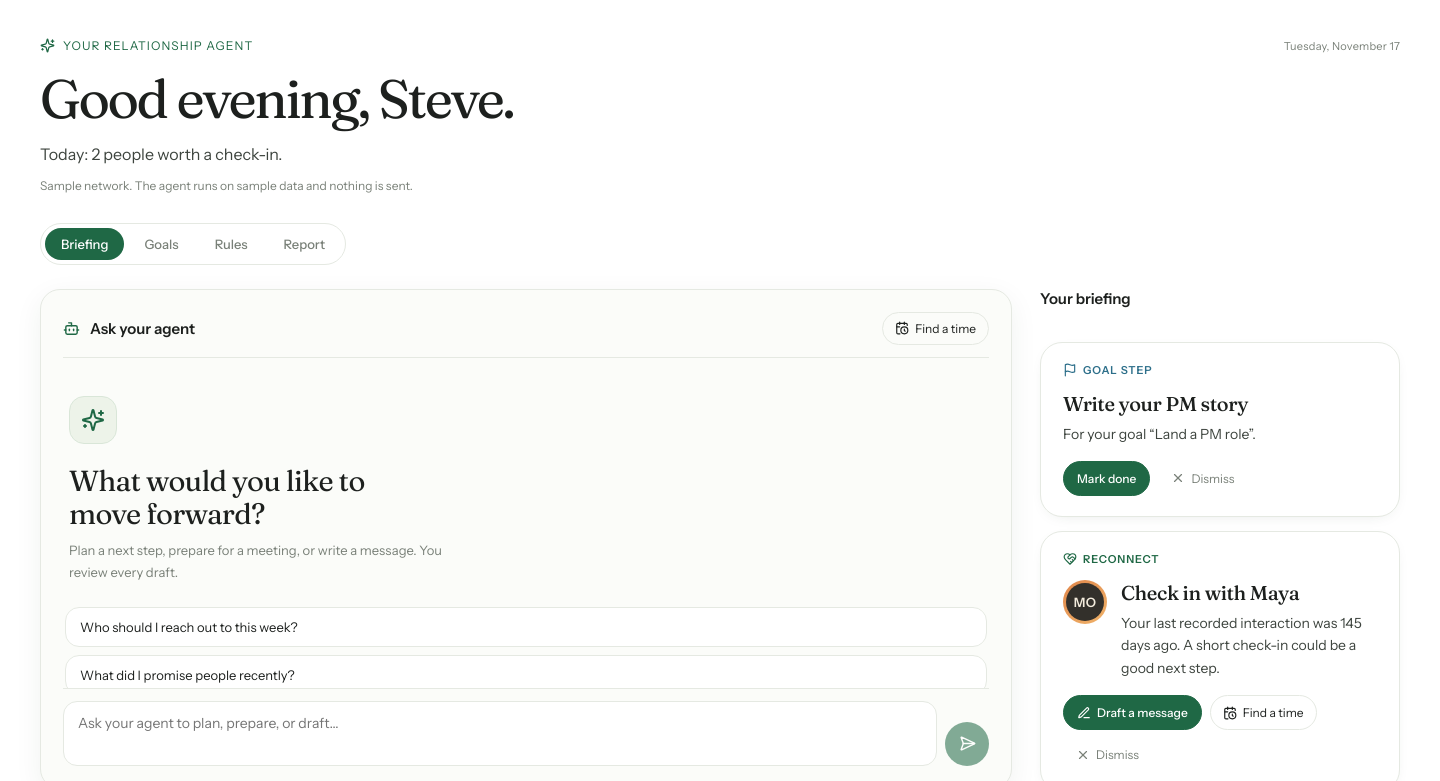
it: agent home › puts this week's goal steps in the feed and marks them done
expect the element "Write your PM story" shows "Goal step": met, box [1083,363,1153,377]
What coordinates should you click on to do the following:
click the button "Mark done"
I would click on:
 (1107, 478)
Its box is [1063,461,1150,496].
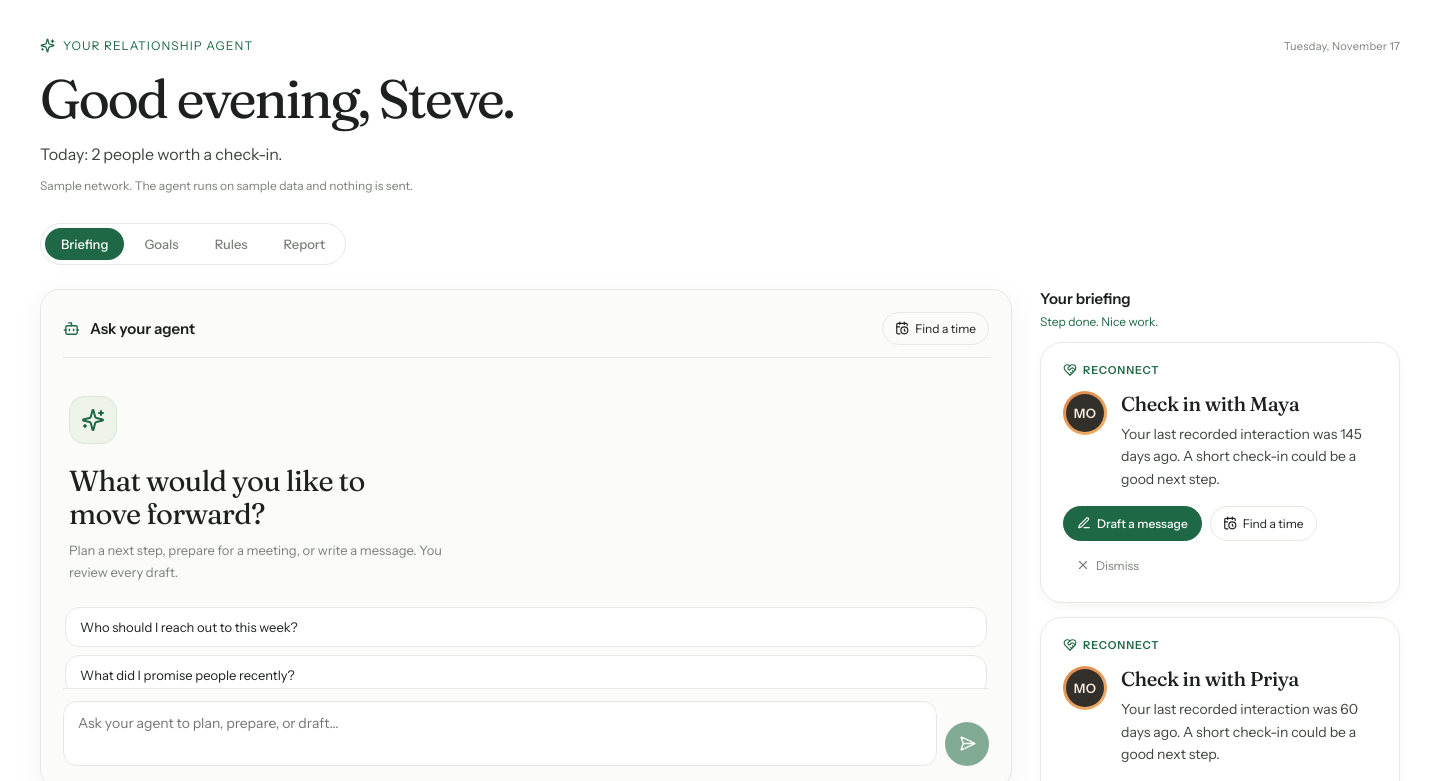
expect the heading "Write your PM story" is gone: met
